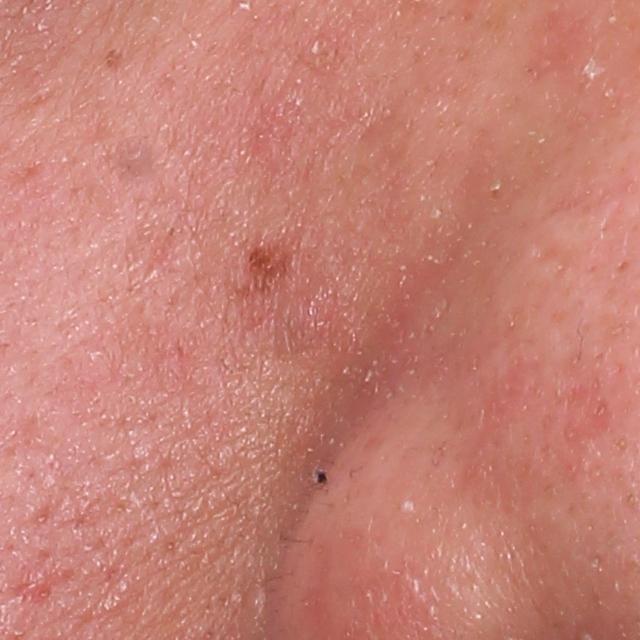comedo: (308, 464, 331, 492)
melasma: (226, 240, 294, 317), (108, 132, 164, 182), (102, 49, 122, 77)
